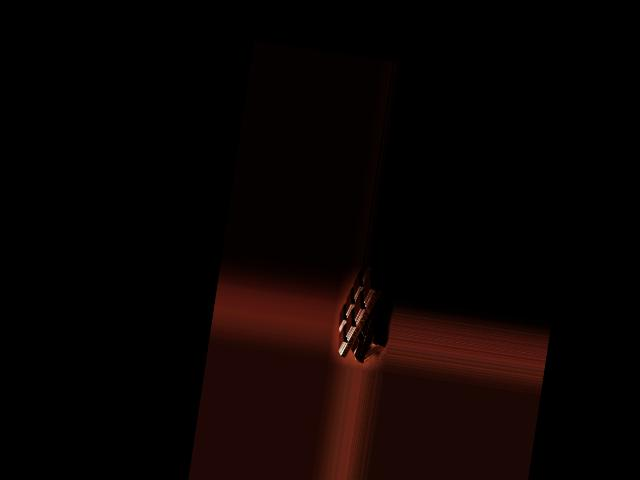chocolate: (334, 265, 390, 364)
